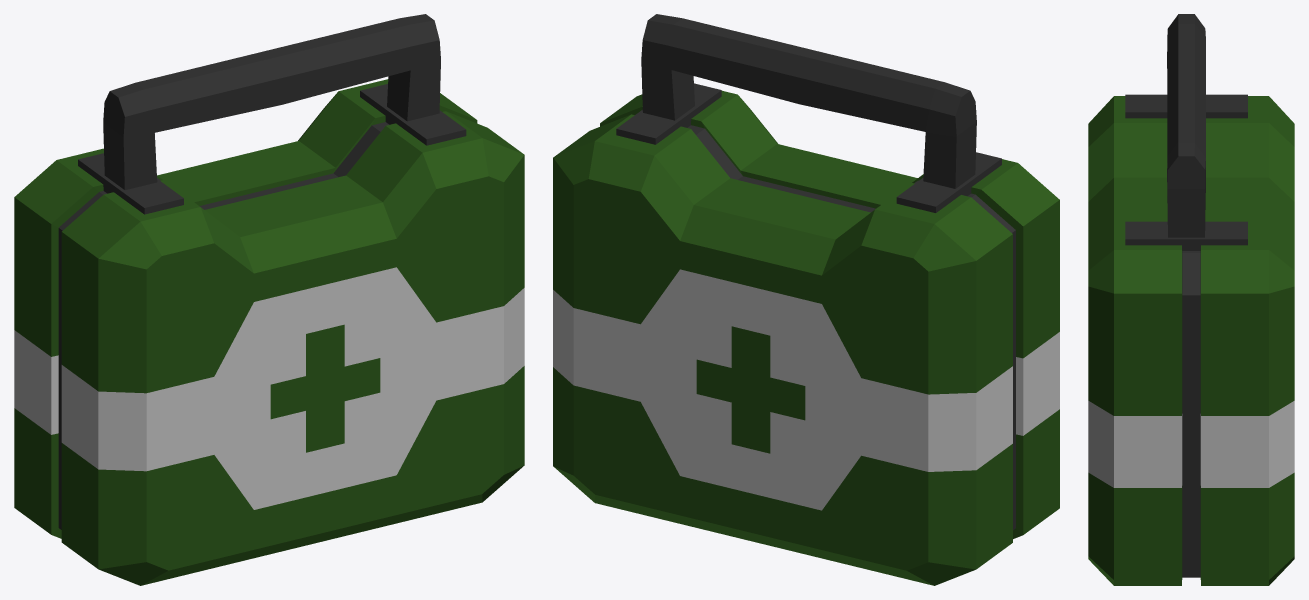
The model's file is health.glb.
The picture shows the model from 3 angles, left to right: view 1: azimuth 30°, elevation 25°; view 2: azimuth 150°, elevation 25°; view 3: azimuth 270°, elevation 25°; orthographic projection. The views are drawn at different scales.
Visible parts, largest first — view 1: Pickup_Health; view 2: Pickup_Health; view 3: Pickup_Health.
Boxes of the visible parts, <box> form: Pickup_Health: <box>14,14,524,585</box>; Pickup_Health: <box>553,14,1059,585</box>; Pickup_Health: <box>1088,14,1294,585</box>.
Size of the model in its own units: 0.9694 by 1 by 0.4402.
